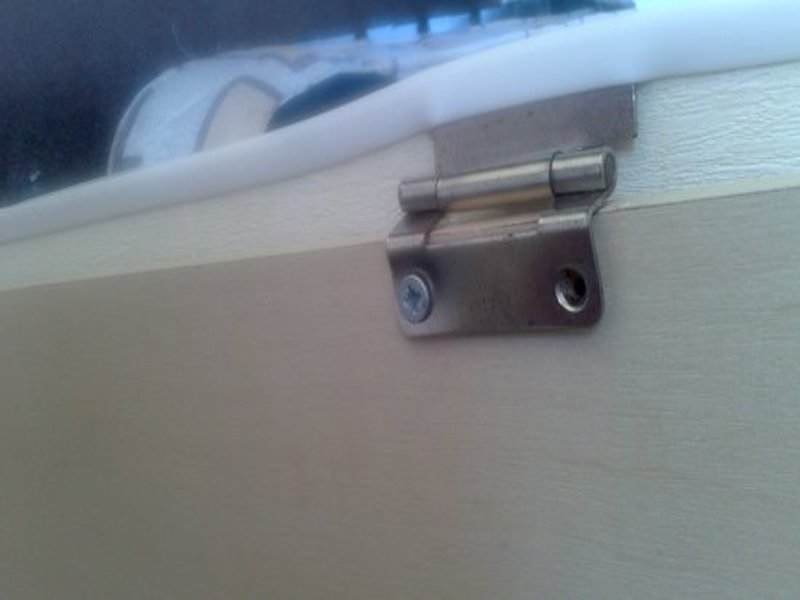hole: (551, 264, 591, 313)
screw: (393, 271, 435, 328)
